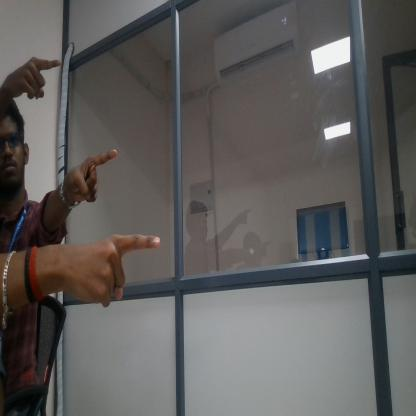Left: (65, 226, 163, 314), (63, 142, 122, 212), (10, 50, 62, 104)
